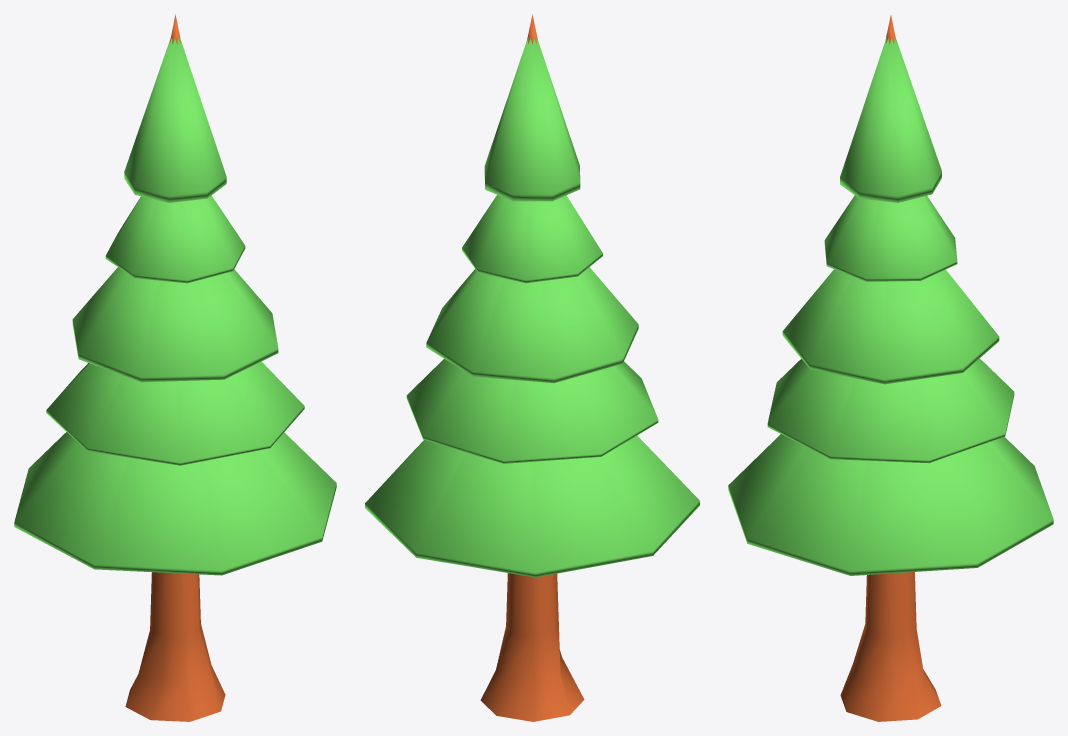
Rendered from PineTree.fbx.
3 renders of one model, left to right at view 1: azimuth 30°, elevation 25°; view 2: azimuth 150°, elevation 25°; view 3: azimuth 270°, elevation 25°, orthographic.
Visible parts, largest first — view 1: PineTree; view 2: PineTree; view 3: PineTree.
Part boxes in pixels (left/top/right/bottom): PineTree: left=14, top=14, right=336, bottom=721; PineTree: left=365, top=14, right=699, bottom=721; PineTree: left=728, top=15, right=1053, bottom=721.
Bounding box in the file's own units: 575 × 1339 × 575.
